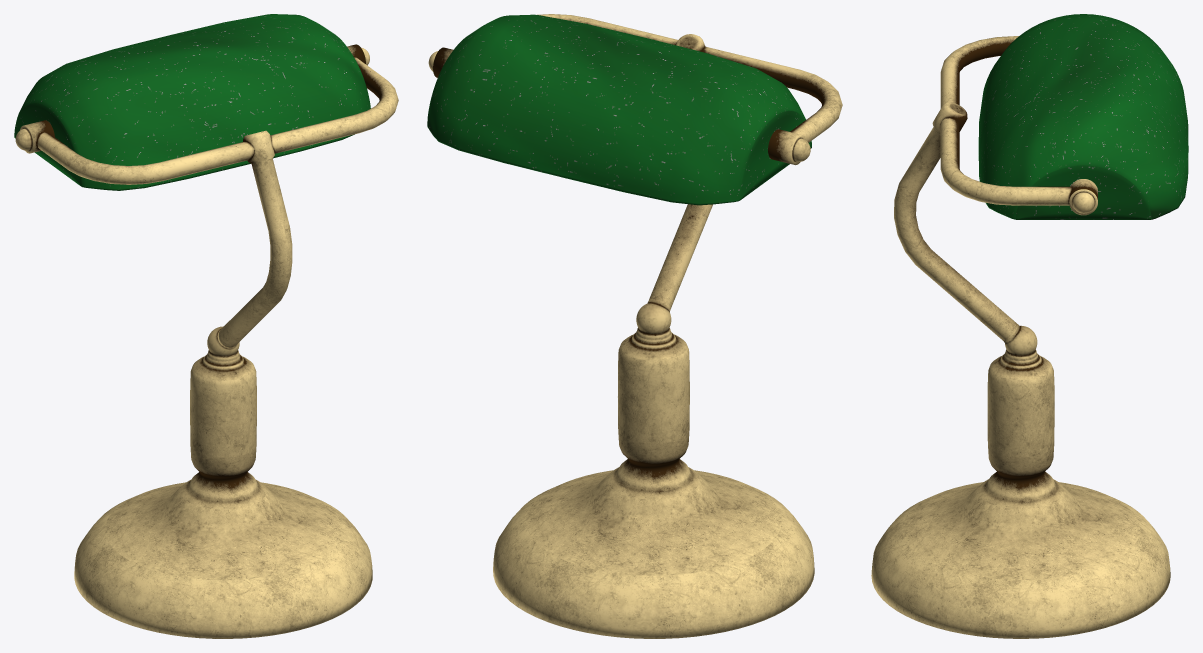
File: bankerslamp.glb
3 views of the same model, side by side, from view 1: azimuth 30°, elevation 25°; view 2: azimuth 150°, elevation 25°; view 3: azimuth 270°, elevation 25° (orthographic). The views are drawn at different scales.
Visible parts, largest first — view 1: bankerslamp_LOWPOLY.001; view 2: bankerslamp_LOWPOLY.001; view 3: bankerslamp_LOWPOLY.001.
Boxes of the visible parts, box(x1,y1,x2,y2) form: bankerslamp_LOWPOLY.001: box(14, 14, 398, 638); bankerslamp_LOWPOLY.001: box(427, 14, 842, 638); bankerslamp_LOWPOLY.001: box(871, 14, 1188, 638).
Size of the model in its own units: 0.2559 by 0.3552 by 0.1995.
1 material, 1 textured.
